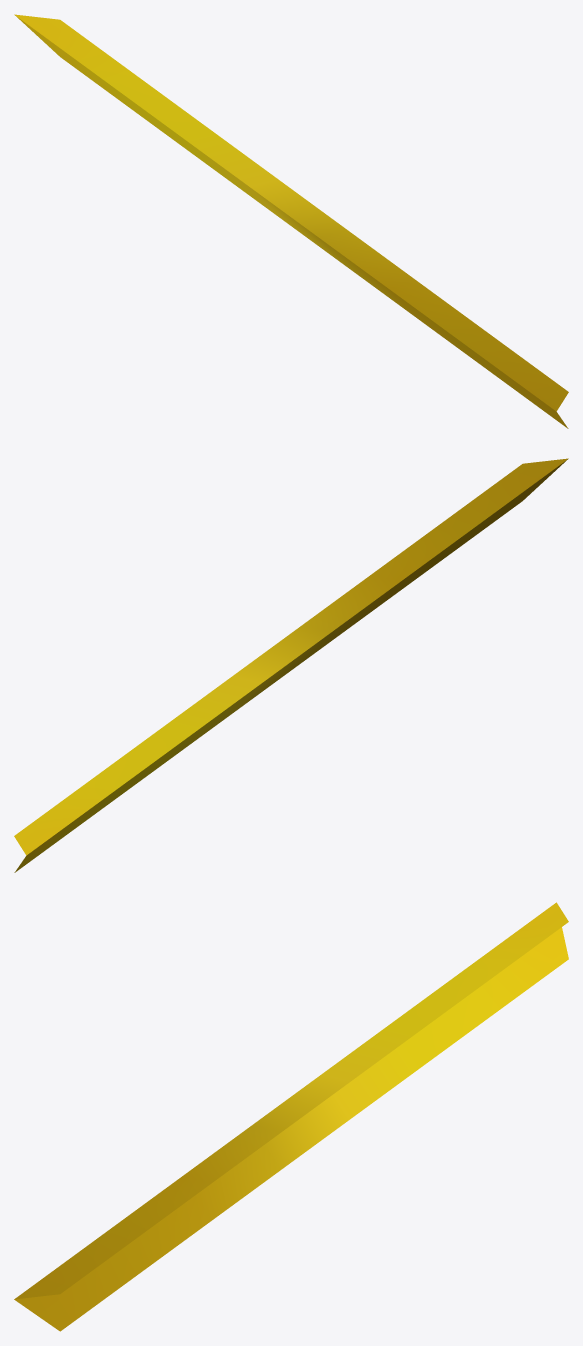
Rendered from Zierleiste [Gelb]_112.glb.
3 renders of one model, top to bottom at view 1: azimuth 30°, elevation 25°; view 2: azimuth 150°, elevation 25°; view 3: azimuth 330°, elevation 25°, orthographic.
Parts seen in each view (by area): view 1: polySurfaceShape1071; view 2: polySurfaceShape1071; view 3: polySurfaceShape1071.
Boxes of the visible parts, <box> form: polySurfaceShape1071: <box>14,14,568,428</box>; polySurfaceShape1071: <box>14,458,568,872</box>; polySurfaceShape1071: <box>14,902,568,1331</box>.
Size of the model in its own units: 0.0333 by 0.0406 by 1.07.
1 material, 1 textured.
